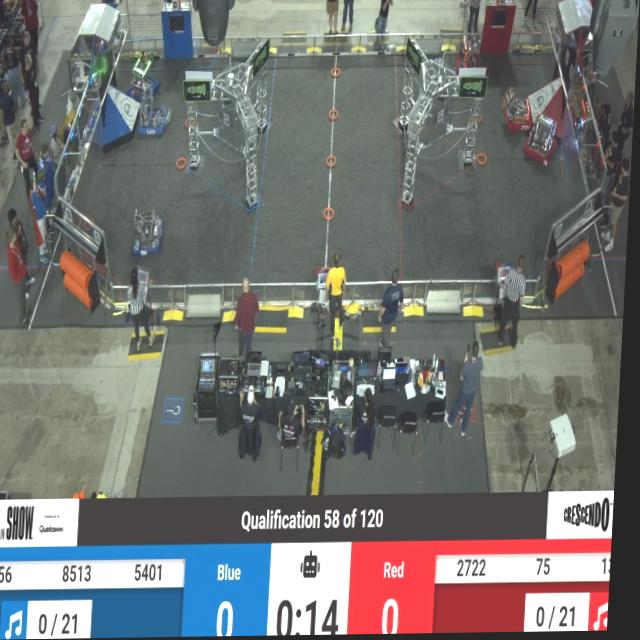Robot: (525, 105, 567, 183), (496, 78, 540, 143), (133, 85, 177, 149), (126, 199, 170, 263), (127, 41, 163, 106), (454, 26, 482, 82)
